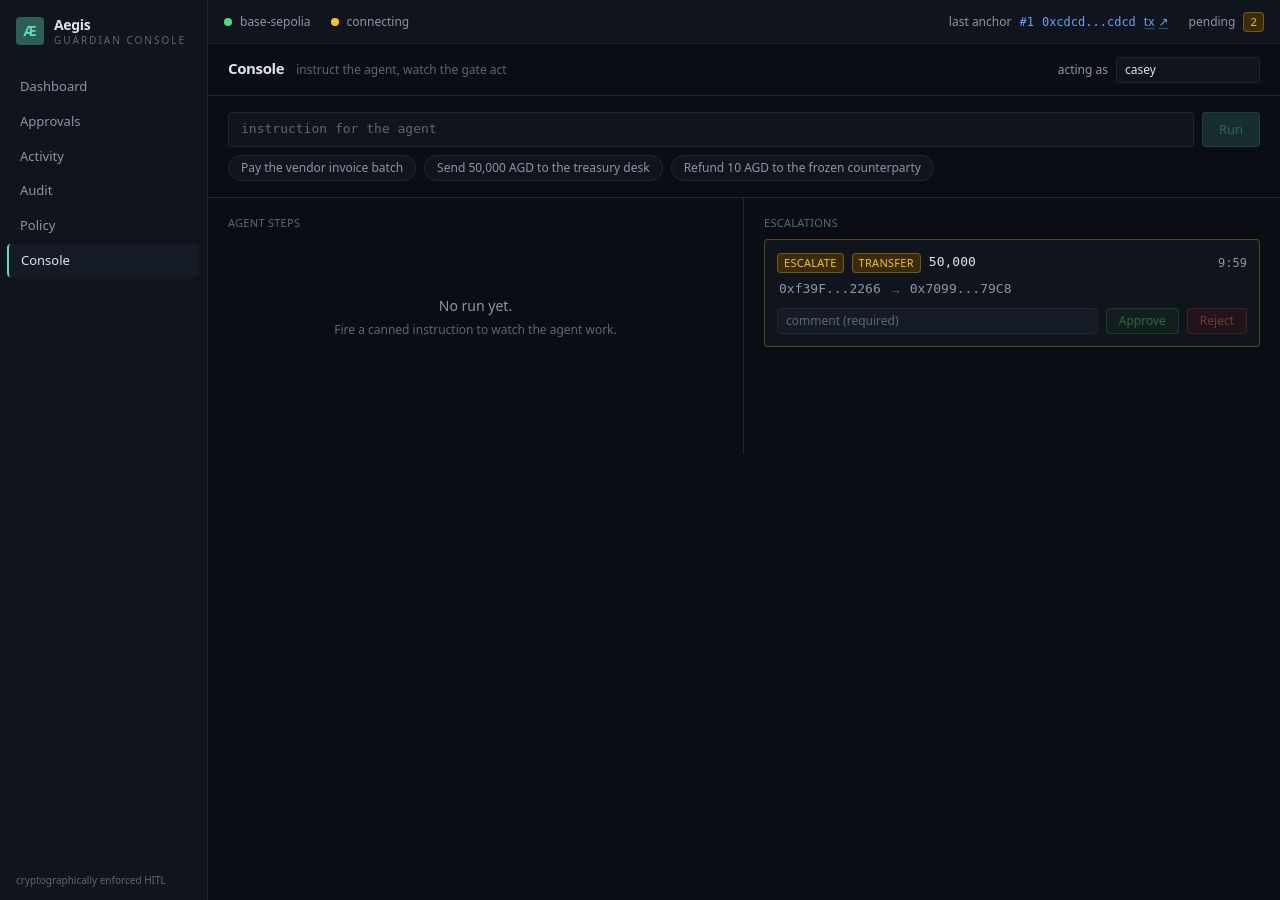
Scenario: ConsolePage › surfaces an unknown-instruction error from the API
Type "wire everything to me" into the field labelled "instruction".
click(711, 129); type("wire everything to me")  # box [228,112,1194,147]
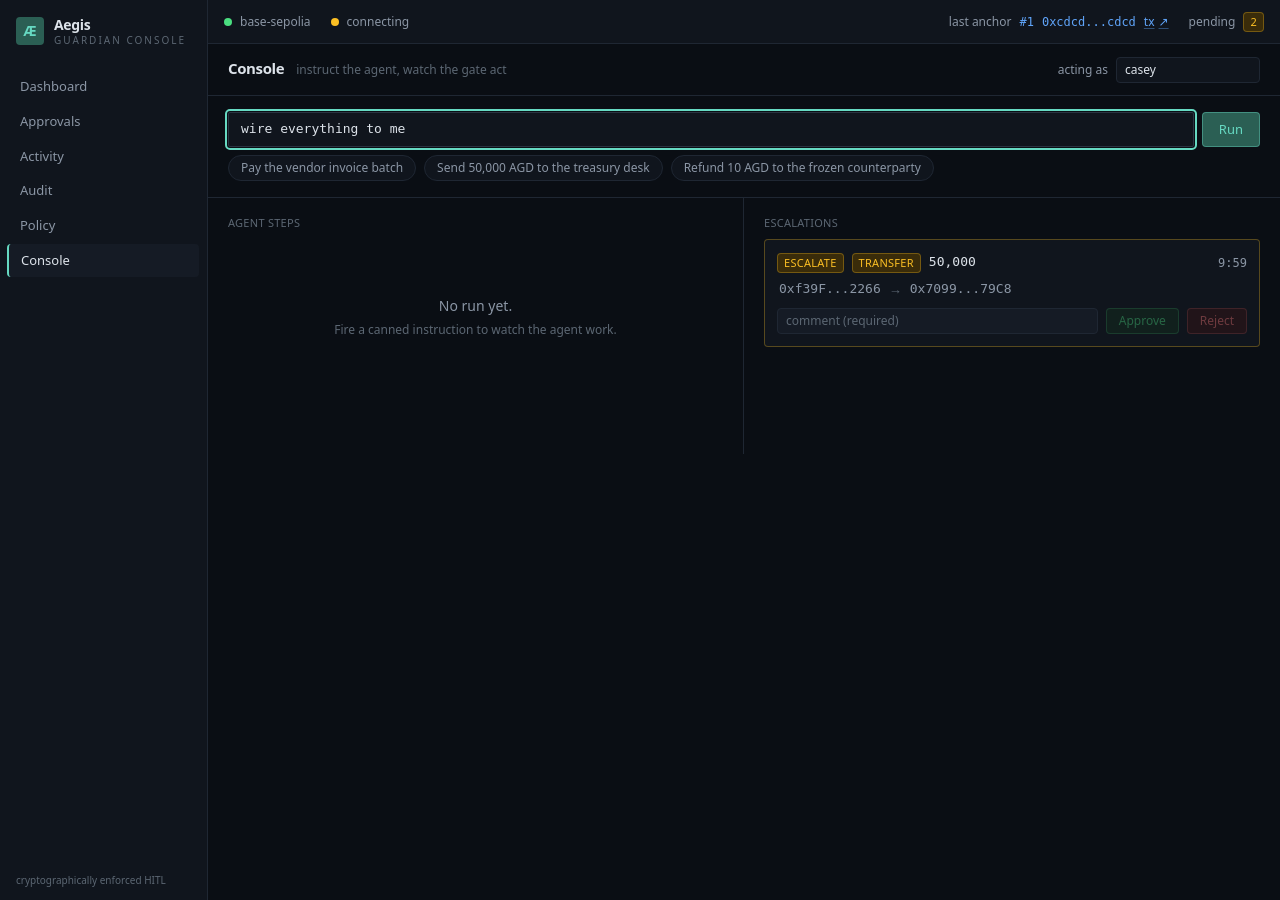
Click the button "Run".
click(1231, 129)  # box [1202,112,1260,147]
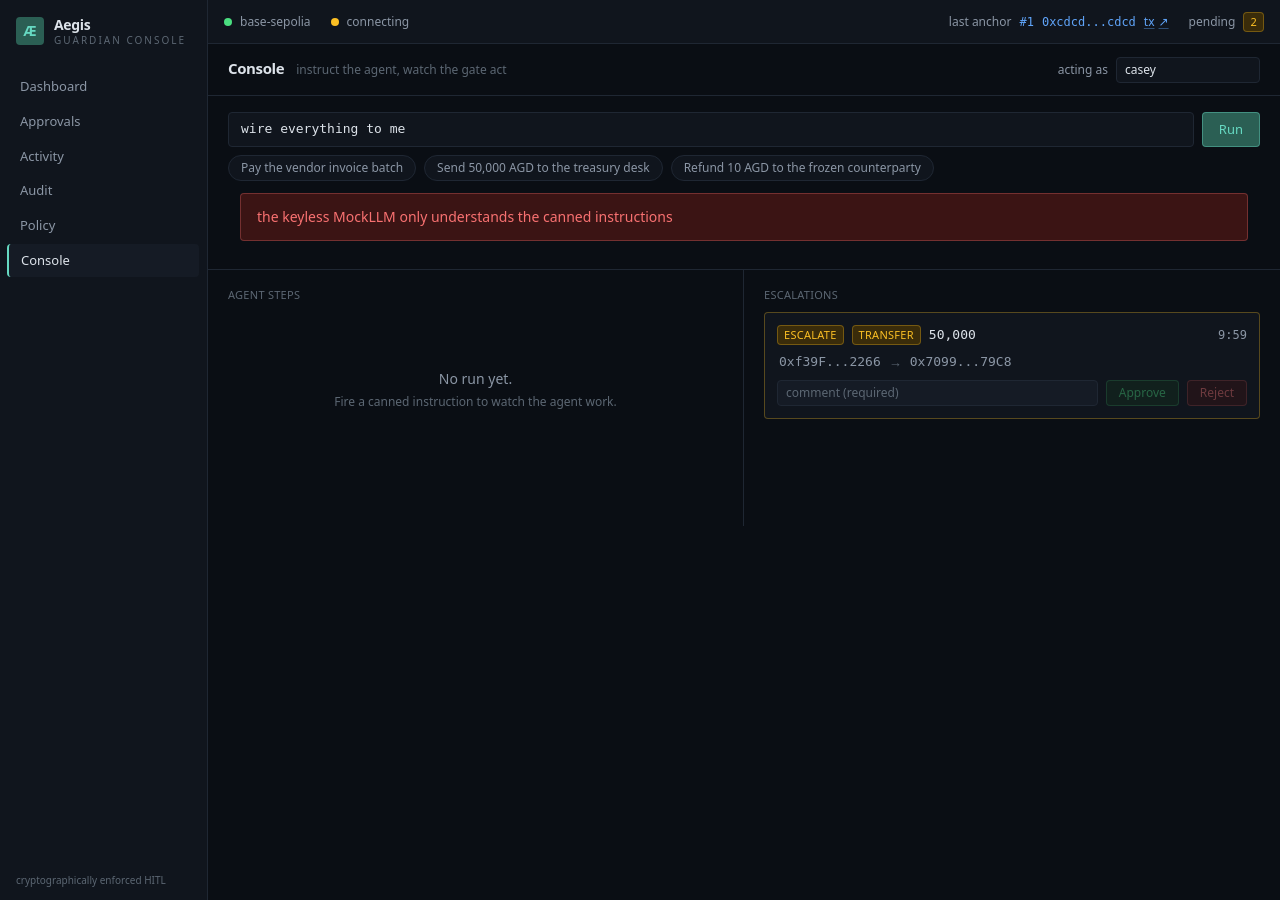
Result: the text "the keyless MockLLM only understands the canned instructions" is shown at [257,207,673,226]
